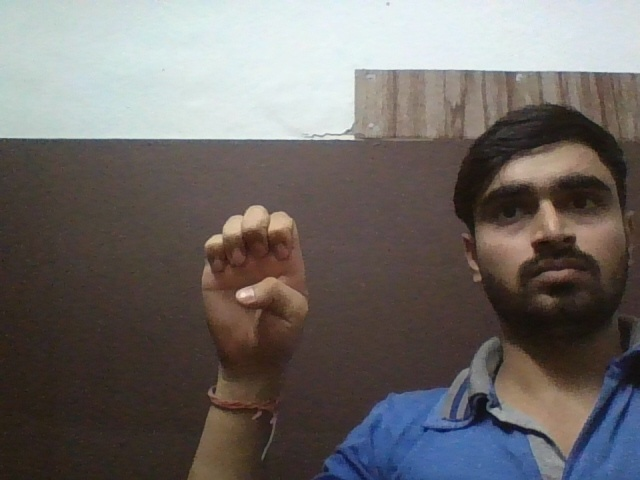E: (186, 204, 324, 362)
